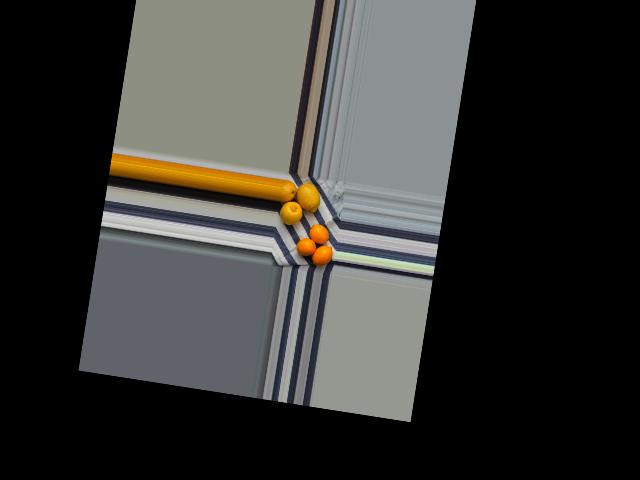lemon: (278, 176, 299, 204)
